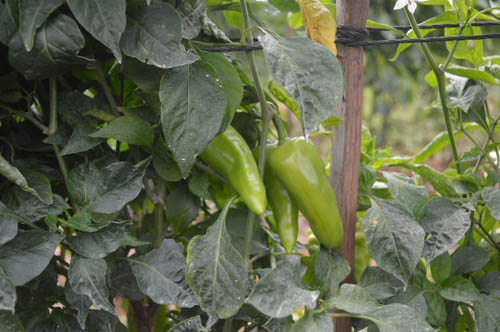ChiliPepper: (271, 135, 343, 246), (206, 126, 263, 214), (256, 143, 297, 255)
